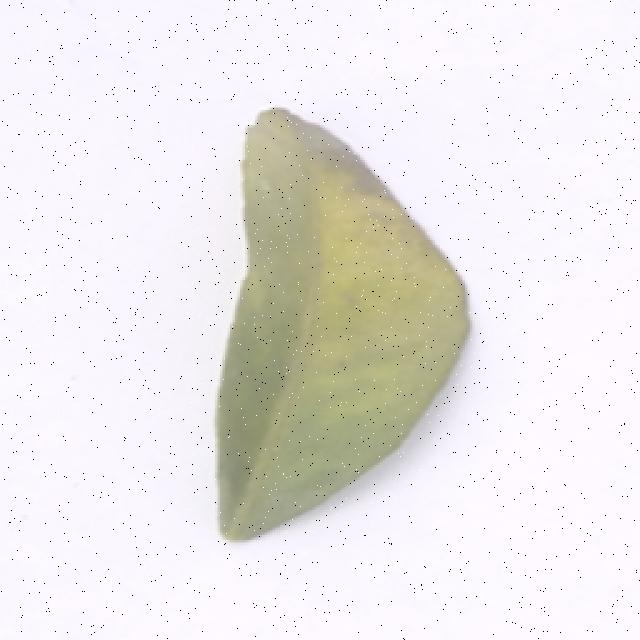greening: (180, 98, 496, 550)
